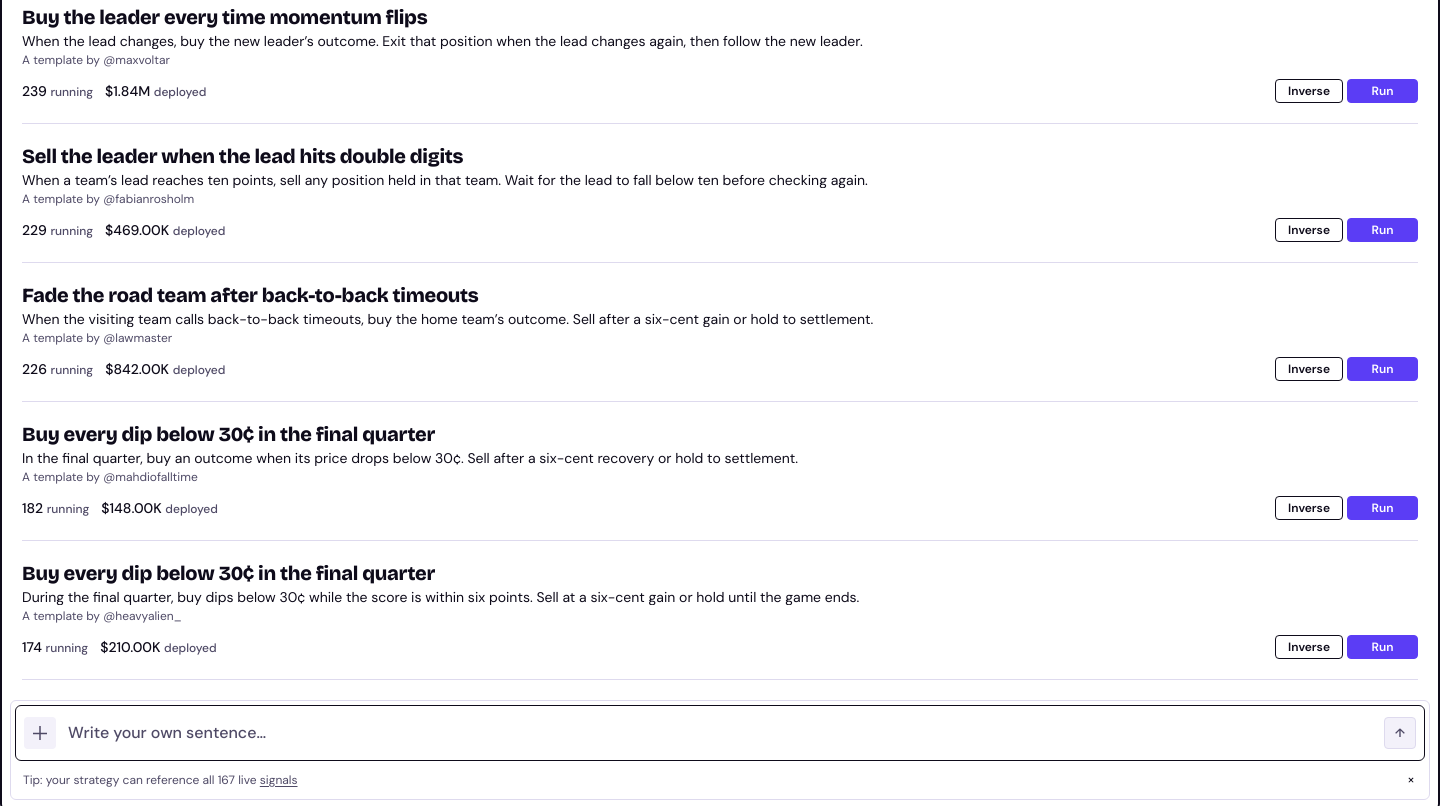
Test: saved chat navigation › keeps an in-progress chat as a card and reopens it without dropping the reply
(page scrolled)
Type "Keep this chat" into the field named "Message Kyros" at point(720, 733), box x1=68 y1=724 x2=1372 y2=742
Then press Enter
(page scrolled)
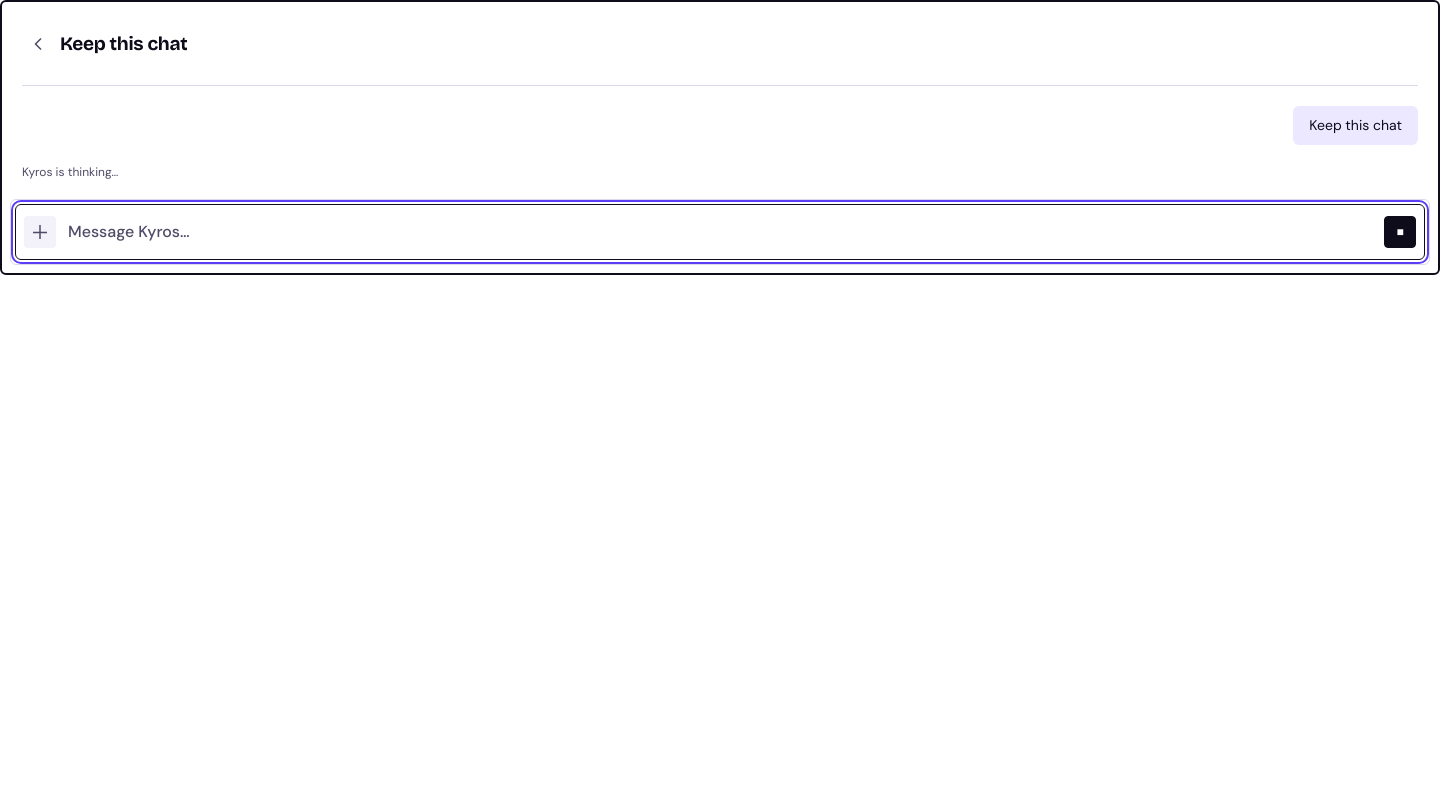
Click the button named "Back to chats and public strategies" at point(38, 44), box x1=22 y1=28 x2=54 y2=60
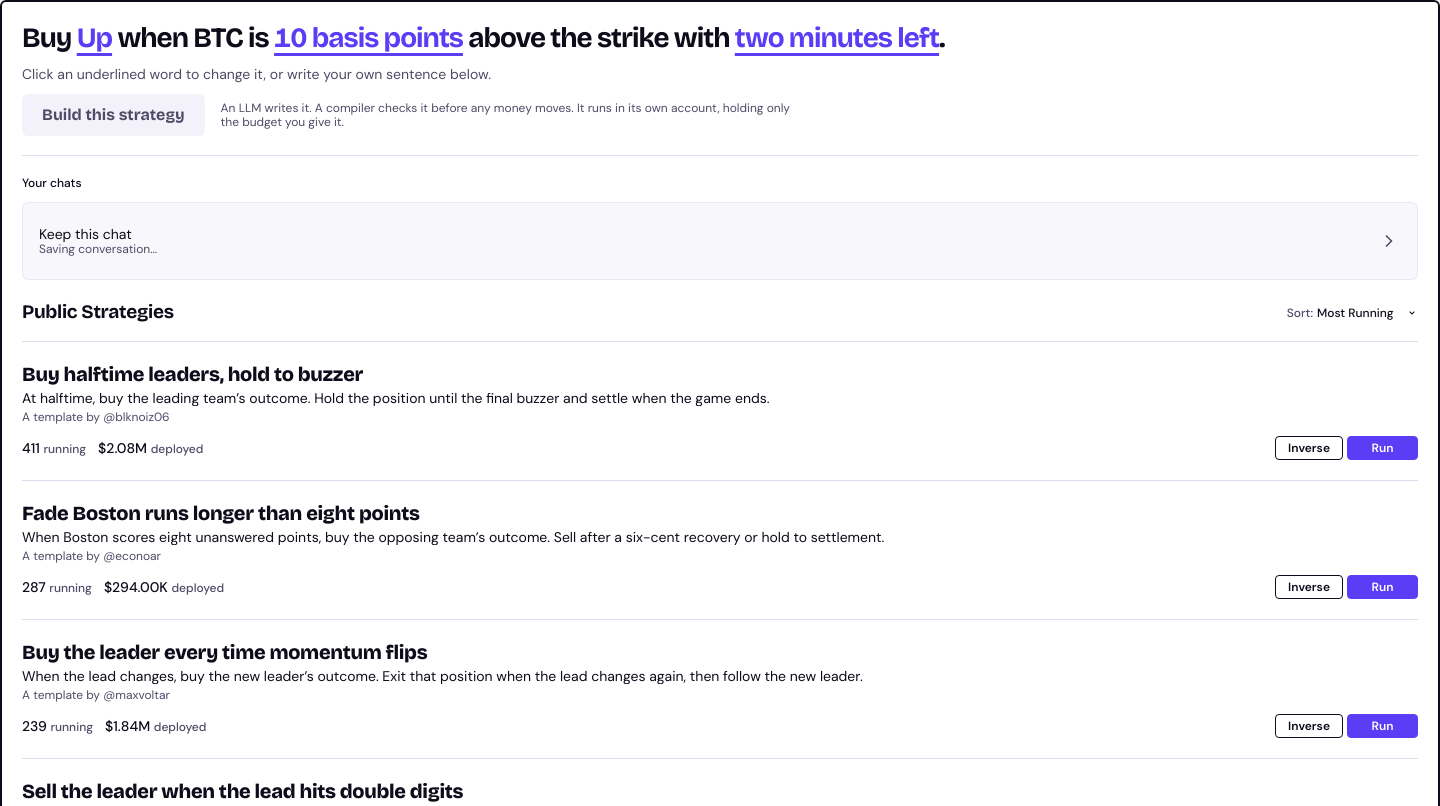
Click the button with aria-label "Open chat: Keep this chat" at point(85, 234), box x1=39 y1=219 x2=1401 y2=263
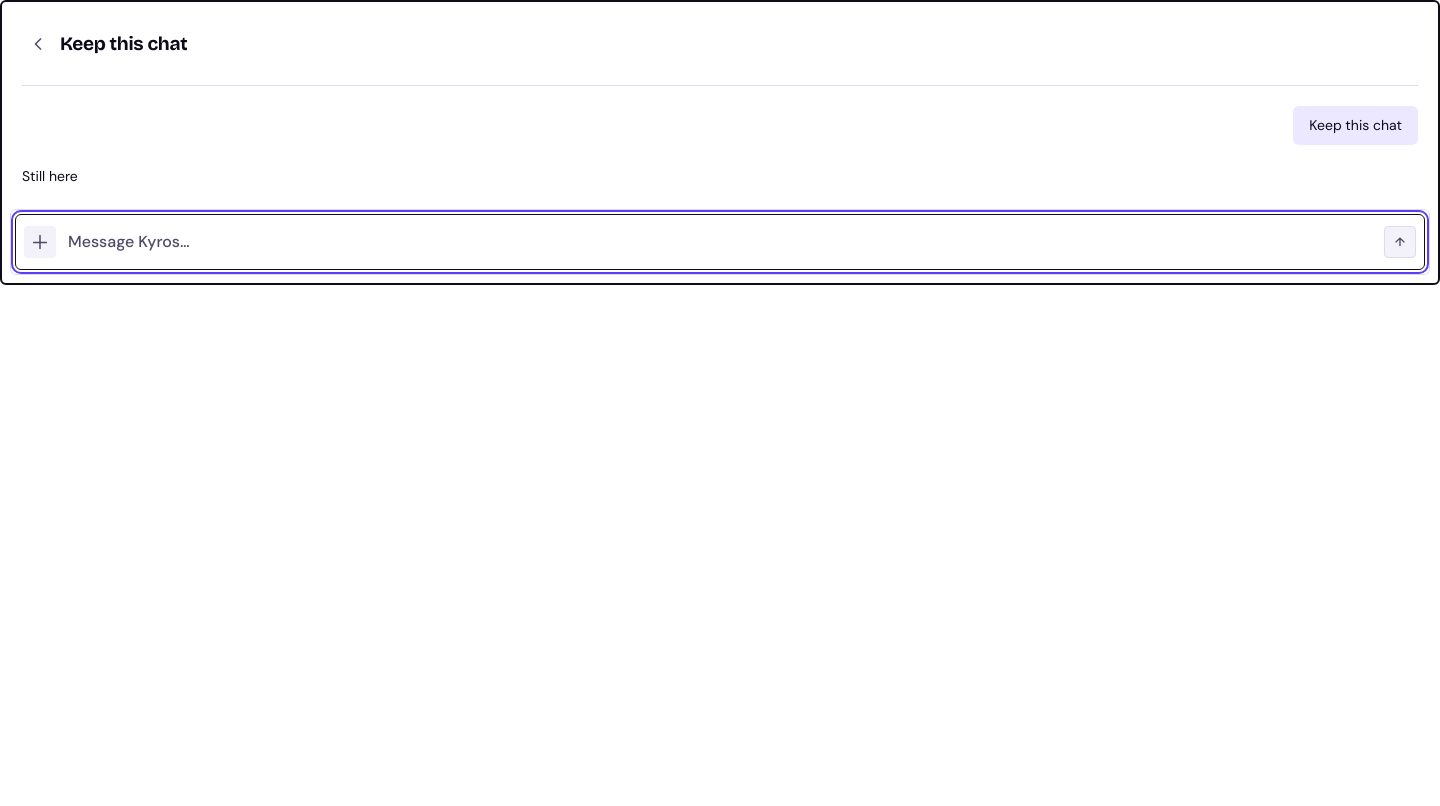
Result: the text "Still here" is shown at x1=22 y1=167 x2=78 y2=185
Result: the number of elements named "You" is 1 at x1=1293 y1=106 x2=1418 y2=145
